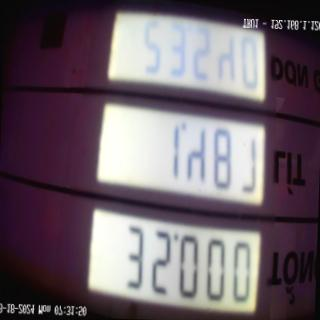screen: (80, 0, 279, 317)
